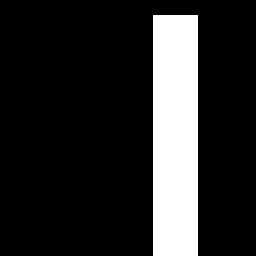person: (153, 15, 197, 256)
